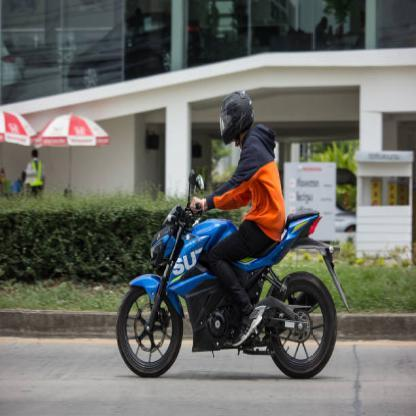Motorcycle: (123, 204, 346, 385)
